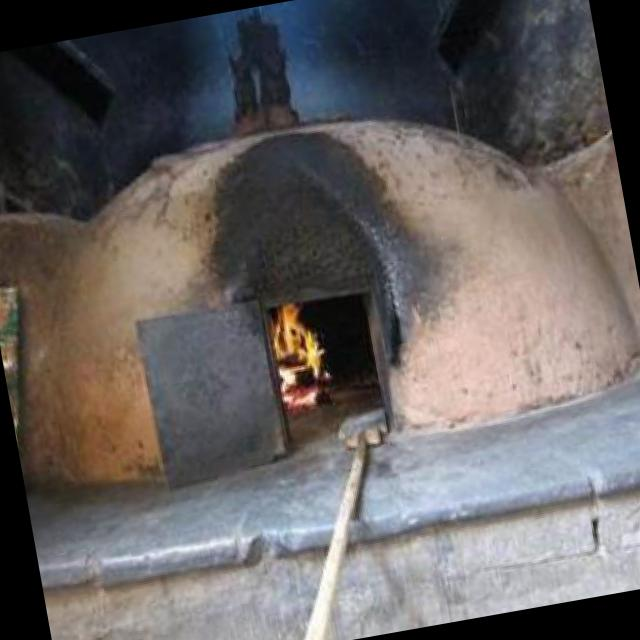fire: (264, 286, 344, 422)
